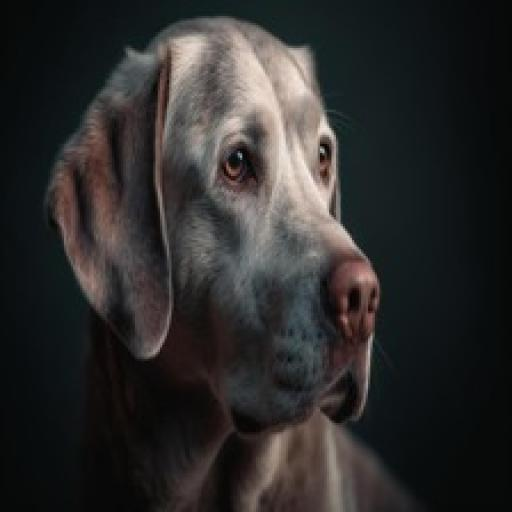dog: (42, 10, 436, 512)
